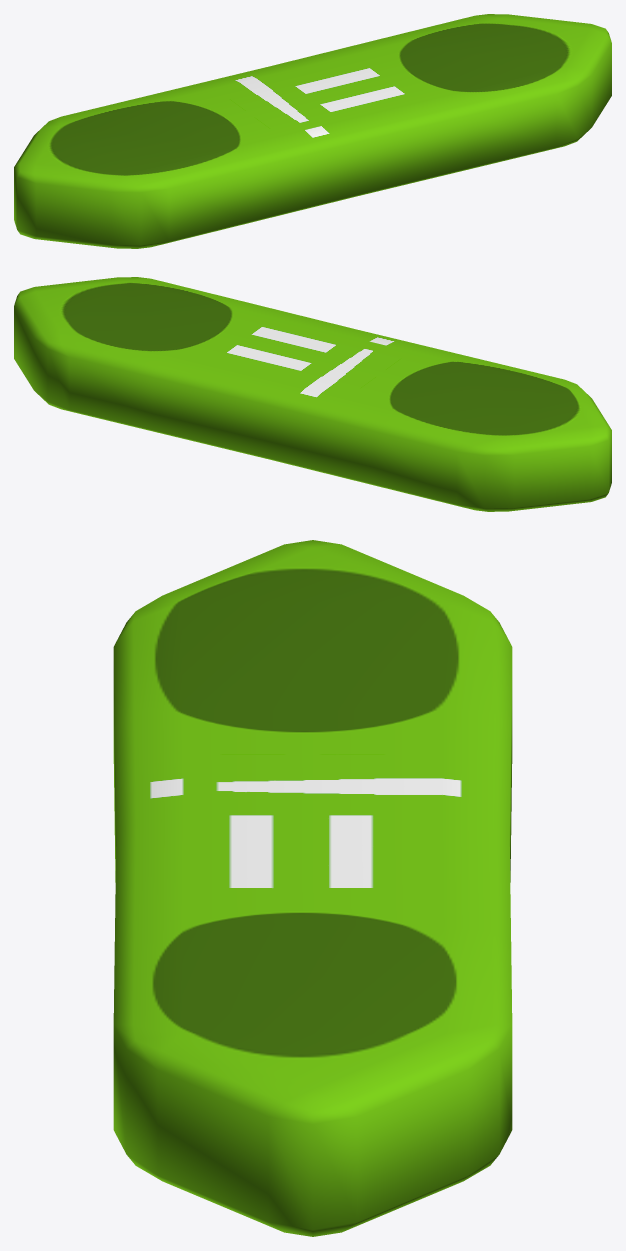
The model's file is bloqueDistinto.fbx.
3 views of the same model, one above another, from view 1: azimuth 30°, elevation 25°; view 2: azimuth 150°, elevation 25°; view 3: azimuth 270°, elevation 25° (orthographic). The views are drawn at different scales.
Parts seen in each view (by area): view 1: BloqueDistinto; view 2: BloqueDistinto; view 3: BloqueDistinto.
Boxes of the visible parts, box(x1,y1,x2,y2) form: BloqueDistinto: box(14, 14, 611, 248); BloqueDistinto: box(14, 277, 611, 511); BloqueDistinto: box(113, 540, 512, 1236).
Bounding box in the file's own units: 146 × 16.57 × 42.63.
